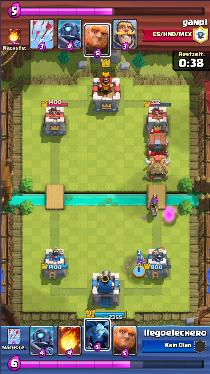ally_goblin_cage: (146, 132, 168, 154)
ally_musketeer: (136, 253, 146, 270)
enemy_goblin_hut: (144, 156, 170, 181)
enemy_musketeer: (149, 196, 160, 217)
